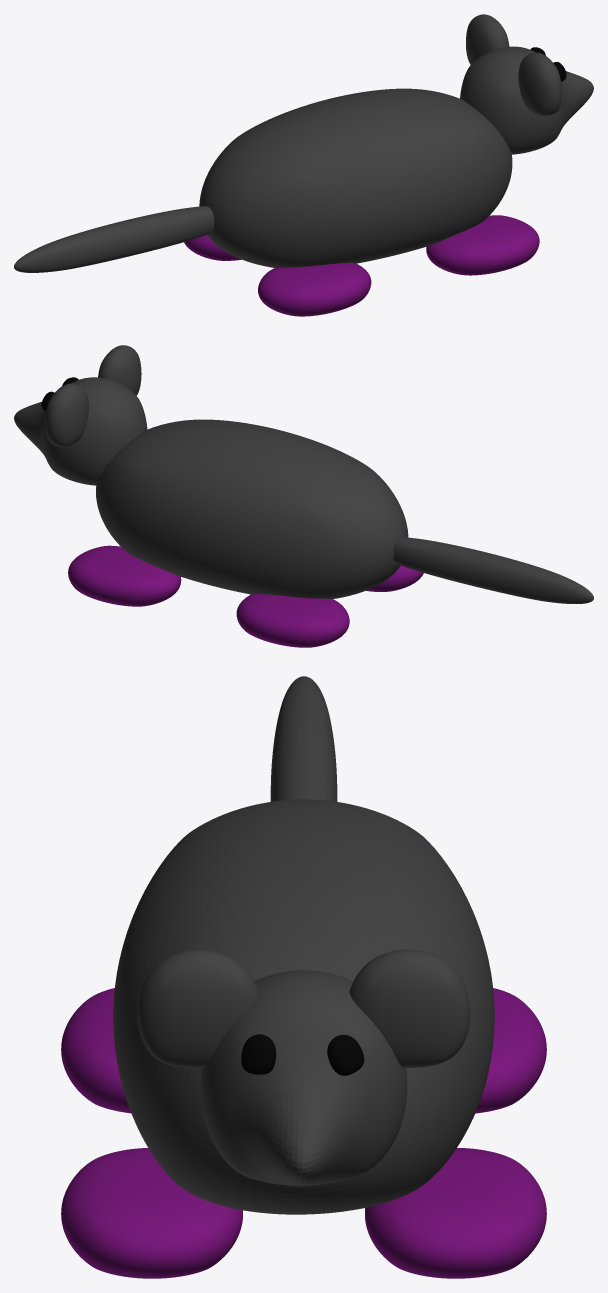
File: Mouse.fbx
3 renders of one model, top to bottom at view 1: azimuth 30°, elevation 25°; view 2: azimuth 150°, elevation 25°; view 3: azimuth 270°, elevation 25°, orthographic. The views are drawn at different scales.
Visible parts, largest first — view 1: Cube, Cube.006, Cube.001, Cube.005, Cube.002, Cube.007, Cube.008, Cube.004; view 2: Cube, Cube.006, Cube.001, Cube.004, Cube.003, Cube.008, Cube.007, Cube.005; view 3: Cube, Cube.006, Cube.003, Cube.002, Cube.007, Cube.008, Cube.001, Cube.004, Cube.005, Cube.009, Cube.010.
Part boxes in pixels (bbox=[...]): Cube: bbox=[199, 88, 512, 267]; Cube.006: bbox=[460, 46, 593, 154]; Cube.001: bbox=[14, 206, 214, 272]; Cube.005: bbox=[258, 262, 371, 316]; Cube.002: bbox=[426, 215, 539, 275]; Cube.007: bbox=[518, 52, 561, 116]; Cube.008: bbox=[466, 14, 509, 64]; Cube.004: bbox=[184, 235, 241, 260]; Cube: bbox=[96, 419, 408, 598]; Cube.006: bbox=[14, 377, 147, 485]; Cube.001: bbox=[393, 537, 593, 603]; Cube.004: bbox=[236, 593, 349, 647]; Cube.003: bbox=[68, 545, 181, 606]; Cube.008: bbox=[45, 383, 88, 446]; Cube.007: bbox=[98, 345, 141, 395]; Cube.005: bbox=[366, 565, 423, 591]; Cube: bbox=[113, 799, 494, 1214]; Cube.006: bbox=[200, 970, 407, 1186]; Cube.003: bbox=[365, 1148, 546, 1278]; Cube.002: bbox=[61, 1148, 242, 1278]; Cube.007: bbox=[137, 949, 258, 1067]; Cube.008: bbox=[349, 949, 470, 1067]; Cube.001: bbox=[270, 676, 337, 801]; Cube.004: bbox=[475, 988, 546, 1113]; Cube.005: bbox=[61, 988, 130, 1113]; Cube.009: bbox=[241, 1034, 276, 1074]; Cube.010: bbox=[327, 1035, 364, 1075].
Bounding box in the file's own units: 580 × 177 × 211.
